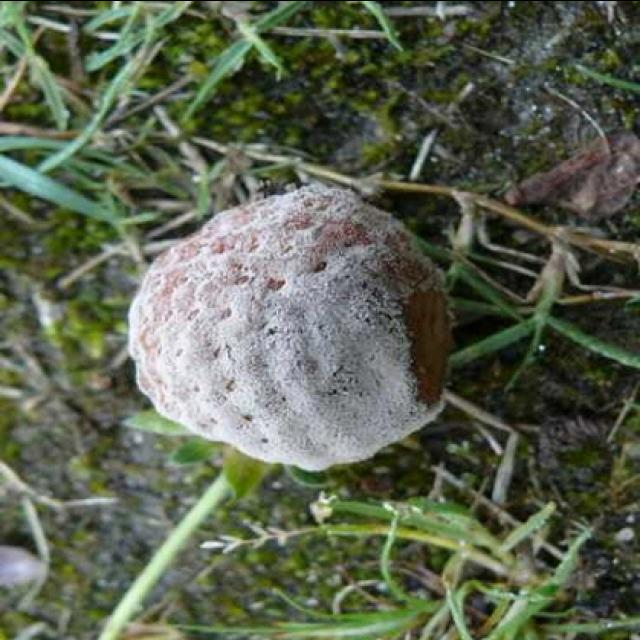Gray Mold: (128, 180, 450, 474)
